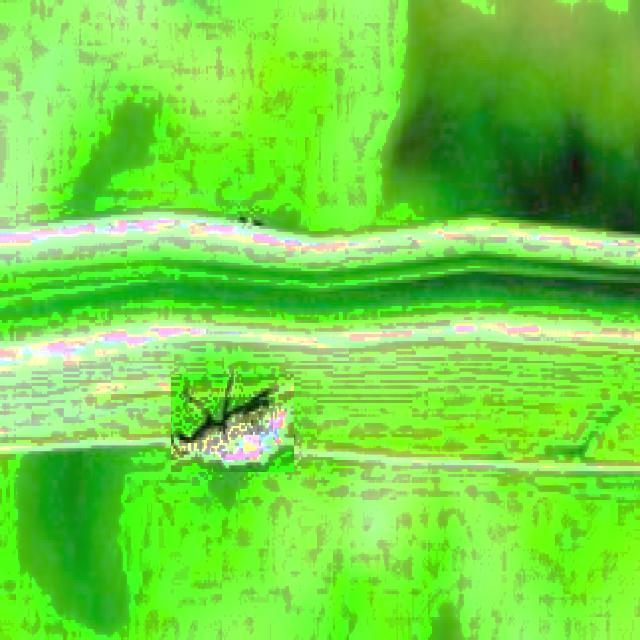rice-bug: (171, 374, 294, 472)
